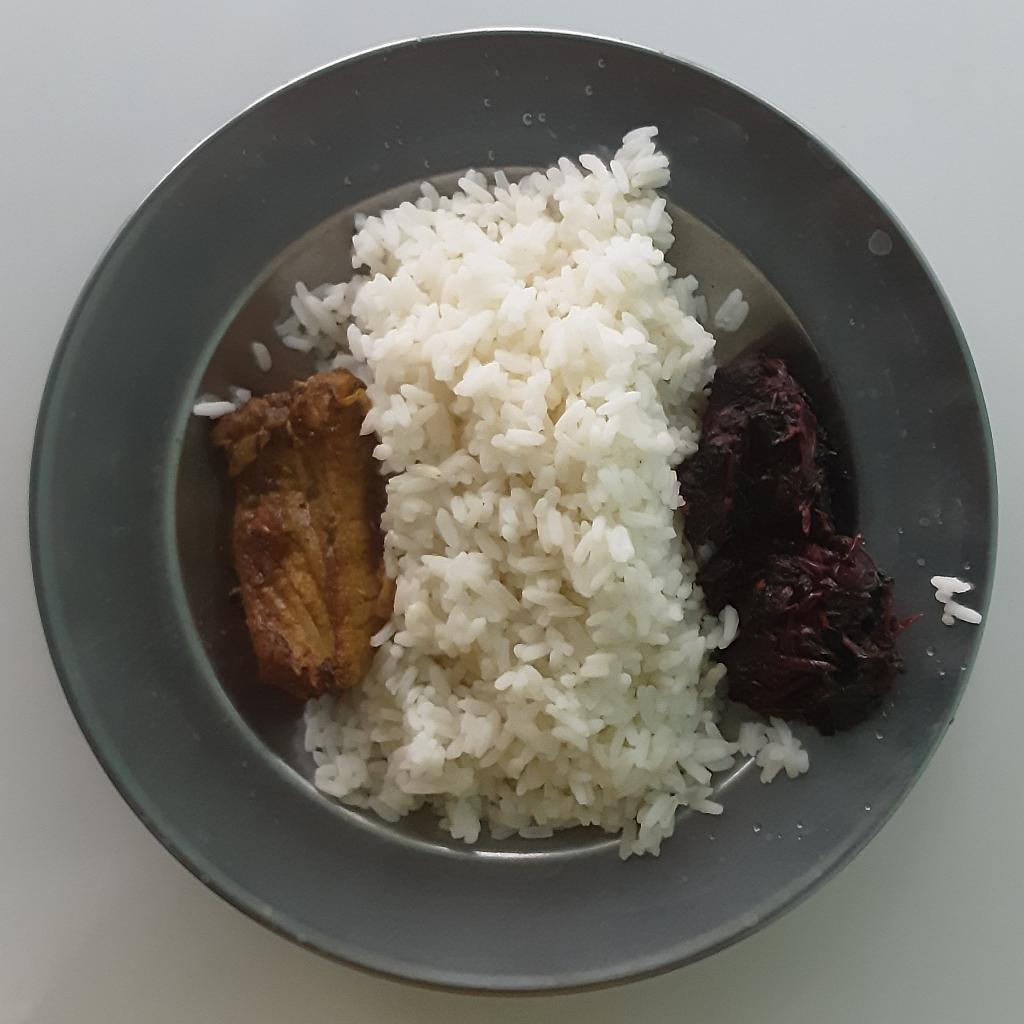fish: (212, 366, 390, 685)
lal-shak: (674, 345, 921, 735)
rice: (261, 123, 809, 869)
